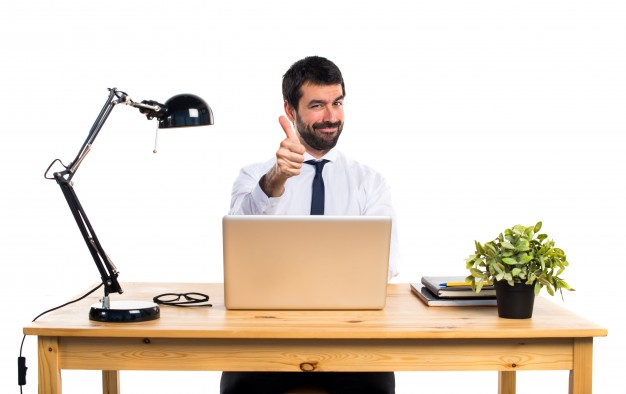thumbsup: (276, 115, 305, 175)
